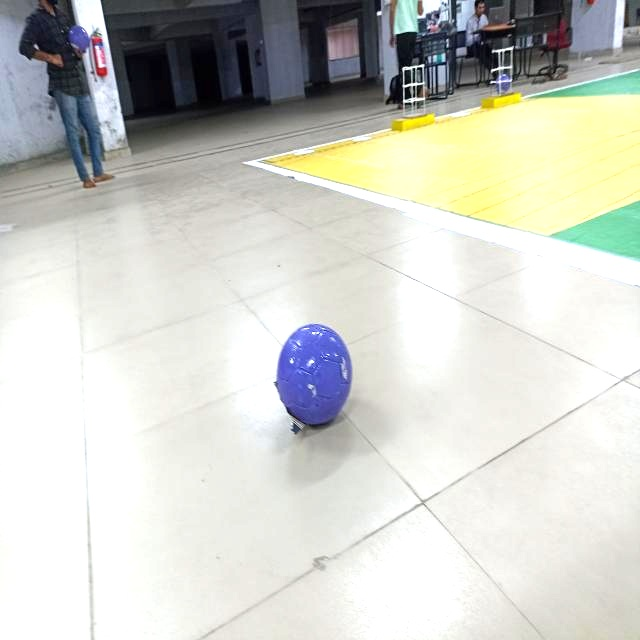purple_ball: (278, 321, 352, 435)
